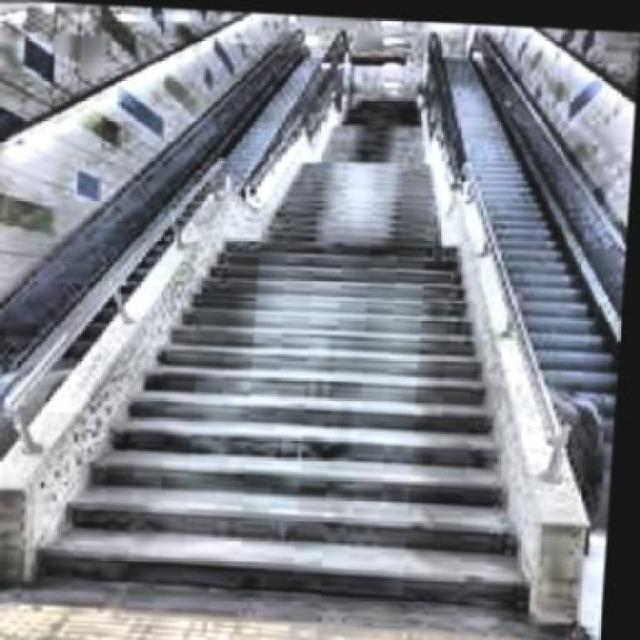stair: (66, 225, 592, 628)
